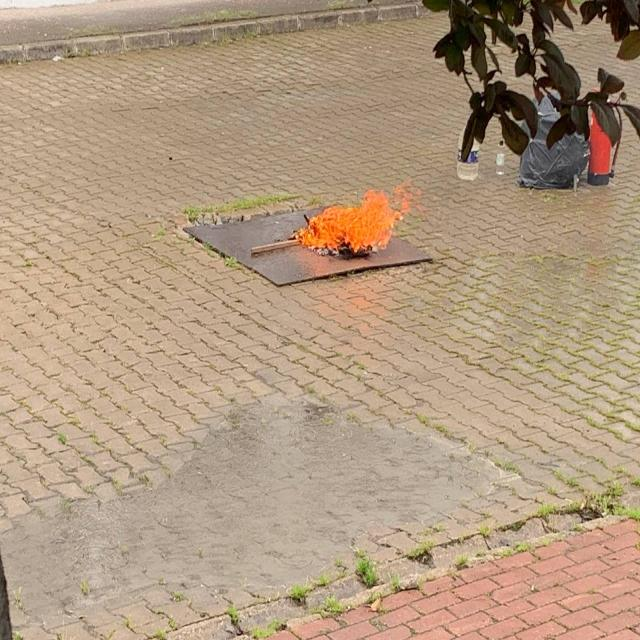fire: (290, 180, 419, 260)
